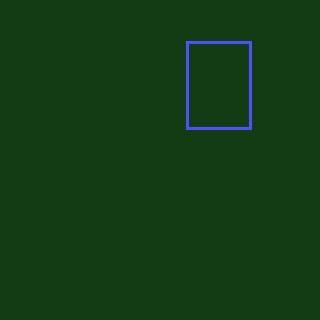bird: (186, 41, 251, 129)
